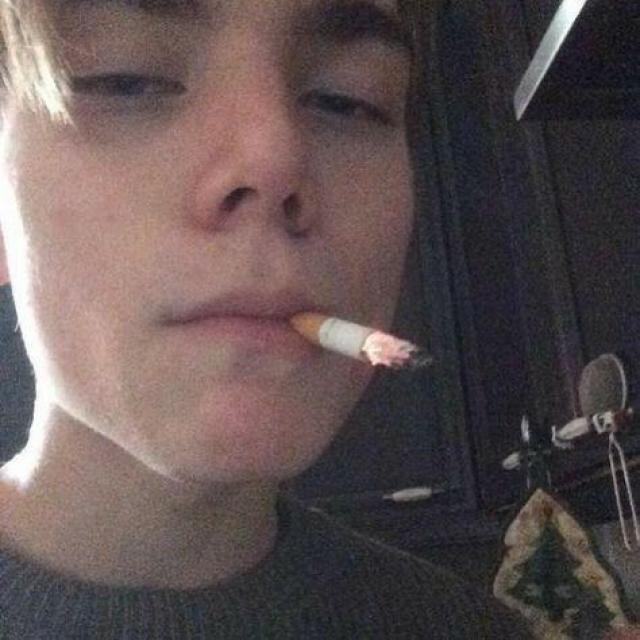cigarette: (274, 277, 477, 397)
